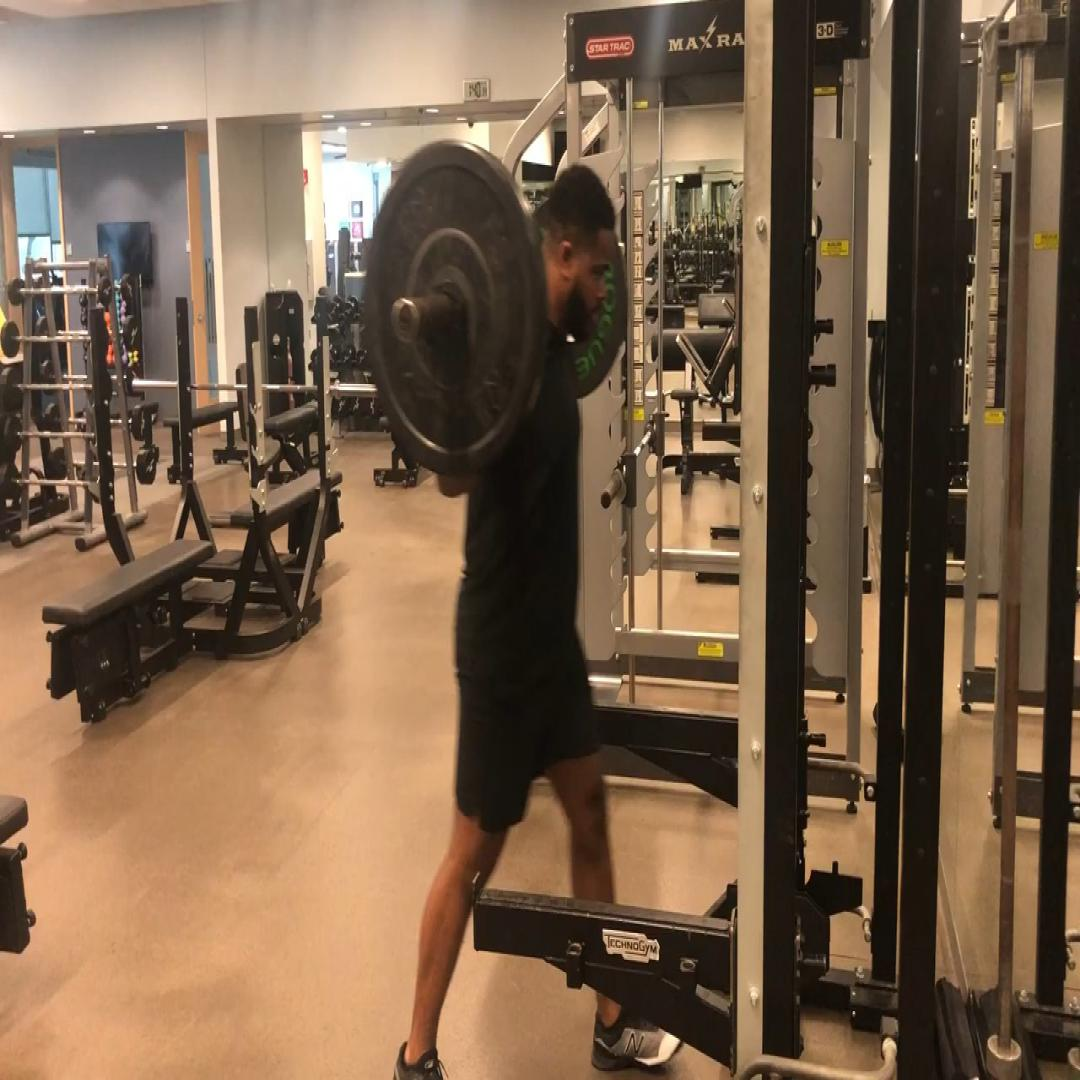Bar: (392, 297, 419, 343)
Barbell: (364, 138, 538, 477)
